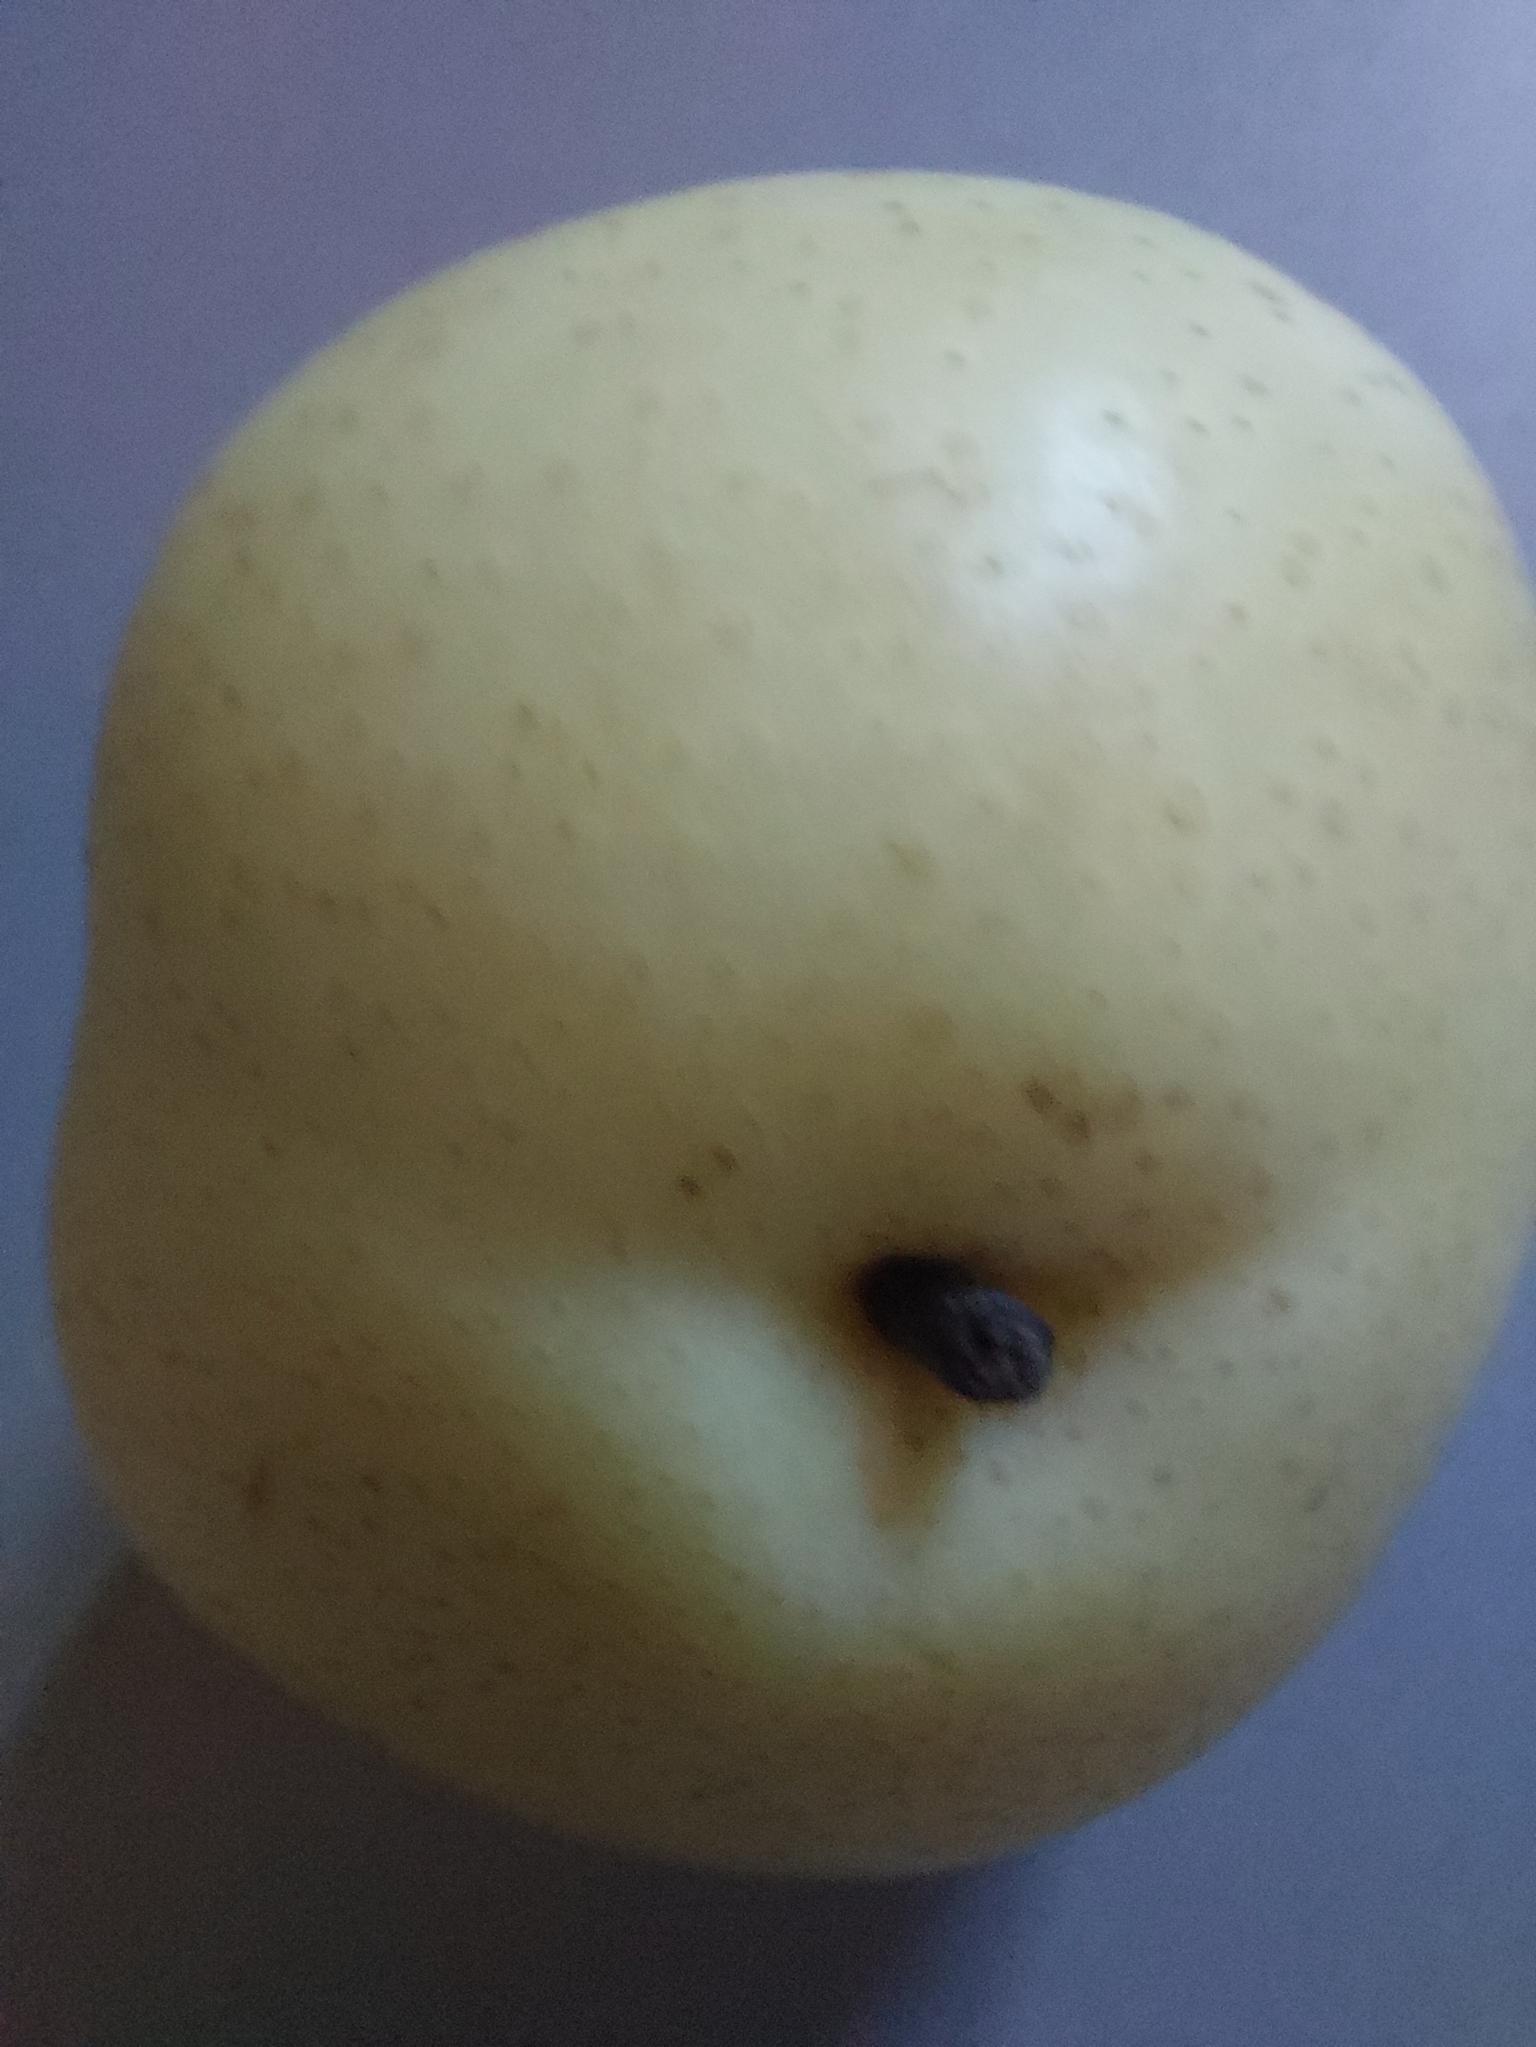Good Pear: (11, 100, 1536, 1915)
